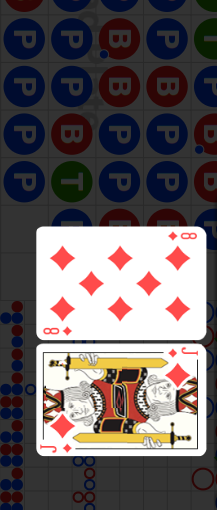8D: (42, 325, 74, 336)
9D: (39, 443, 73, 455)
